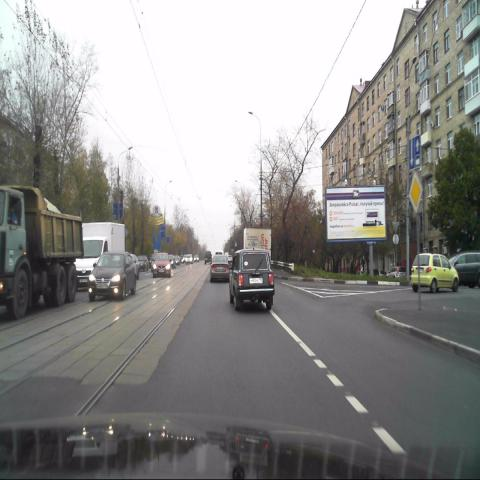5_11: (409, 135, 421, 170)
